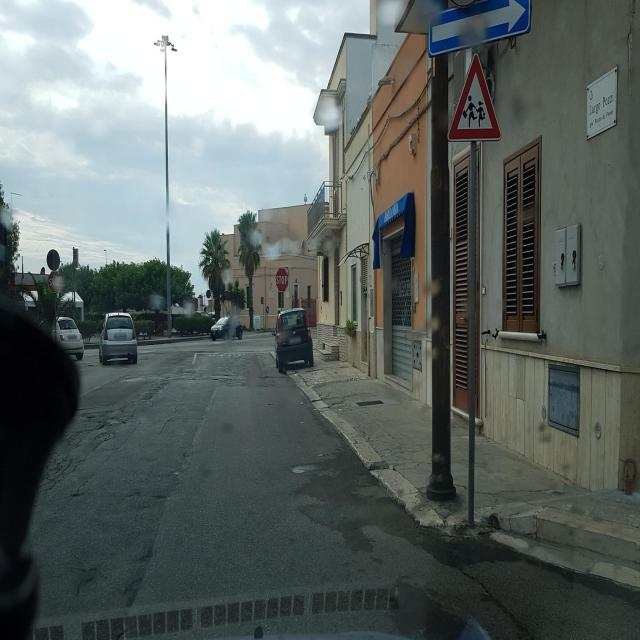car: (275, 306, 314, 372), (99, 310, 138, 364), (51, 315, 84, 359), (210, 314, 244, 339)
